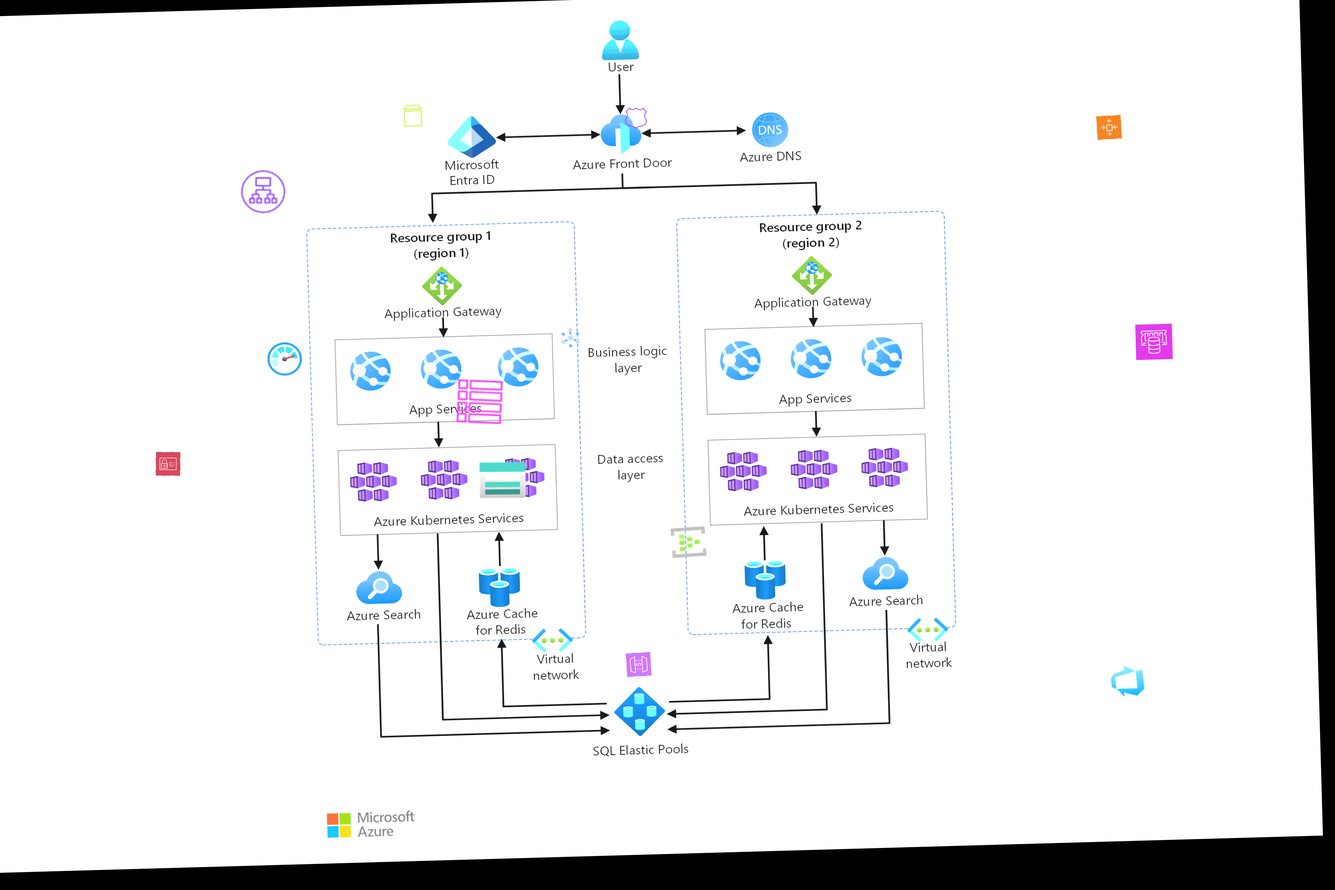aws_amazon_api_gateway: (625, 652, 651, 677)
aws_amazon_ec2_auto_scaling: (1096, 115, 1122, 140)
aws_amazon_elasticache: (1135, 323, 1173, 360)
aws_dynamodb_table: (453, 375, 506, 428)
aws_elastic_block_store_volume: (400, 103, 426, 128)
aws_elastic_load_balancing_application_load_balancer: (237, 166, 289, 216)
aws_identity_and_access_management: (155, 451, 181, 476)
aws_route_53_hosted_zone: (623, 105, 650, 130)
azure_devops: (1107, 661, 1148, 700)
azure_event_hubs: (669, 523, 708, 561)
azure_monitor: (265, 340, 304, 378)
azure_storage_accounts: (477, 455, 528, 505)
gcp_pubsub: (557, 325, 583, 350)
